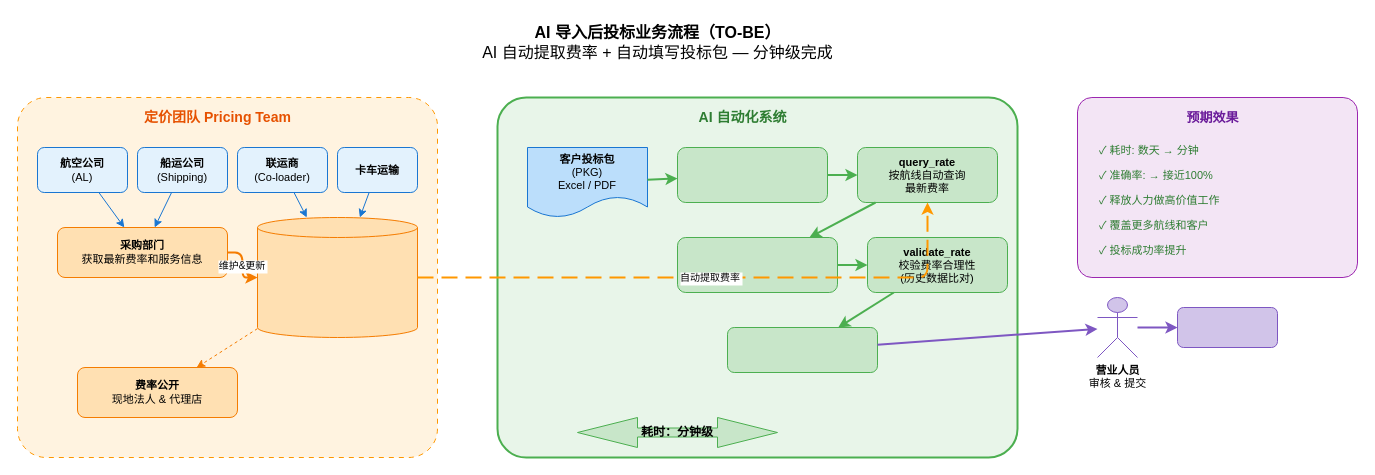
This 1375x475 diagram has some shape labels left out. The centre of each missing label's shape, as x and y in pixels:
"fill_pkg 自动填入费率数据 到投标包对应栏位" belongs at pixel 757 264.
"notify 通知营业人员审核" belongs at pixel 802 349.
"parse_pkg 解析投标包结构 识别需填写字段" belongs at pixel 752 174.
"提交投标" belongs at pixel 1227 327.
"统一费率表 Tariff Excel / 数据库 - 全部航线费率 - 配送料 / 集荷料 - 服务信息" belongs at pixel 337 277.
